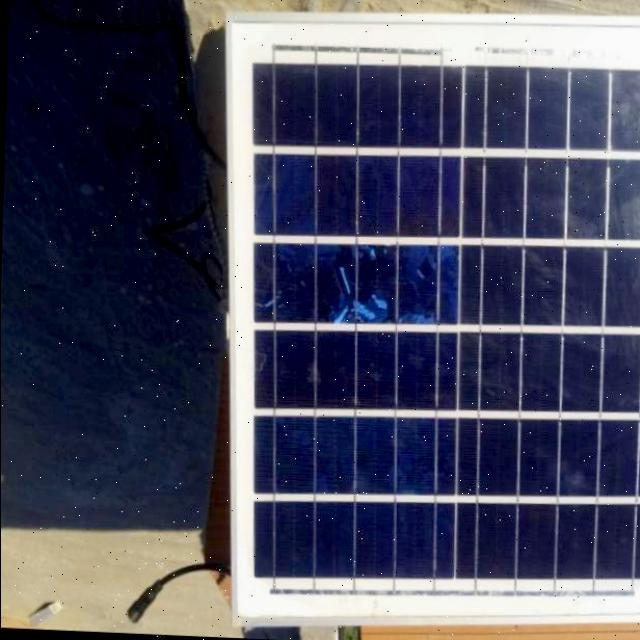Normal Solar Panel: (210, 8, 640, 640)
